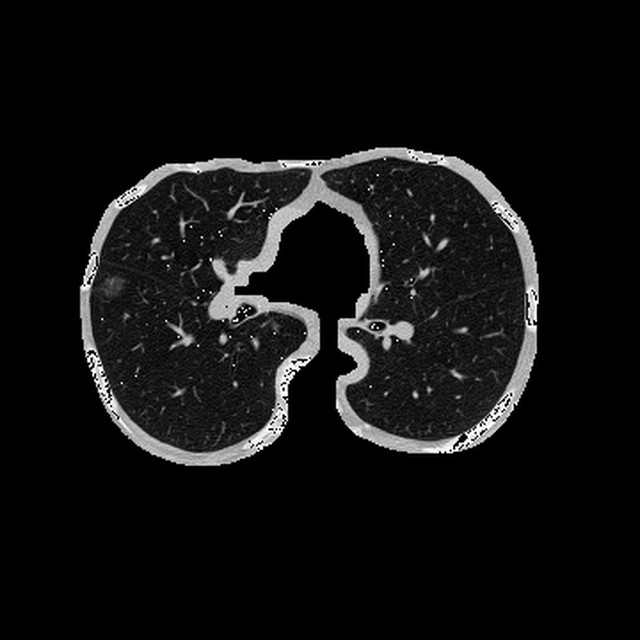PN: (101, 274, 123, 295)
